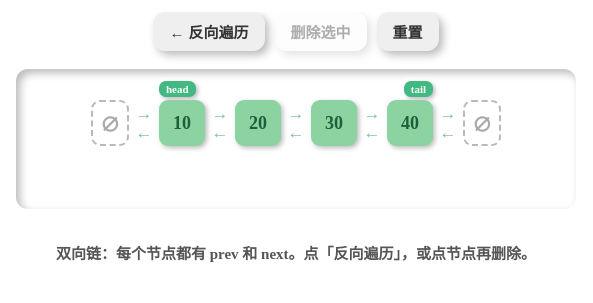
DlinkViz 双向链表互动 › TC-VIZ-DLINKVIZ-04 反向遍历：status 含「反向」且含「40 → 30」
Step 1. Click the button "← 反向遍历" → (209, 32), box [153,12,265,51]
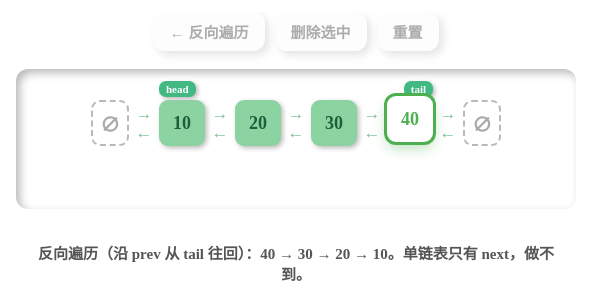
Expected: the message with class "status" shows "反向", [36,242,556,286]
Expected: the message with class "status" shows "40 → 30", [38,246,554,283]
